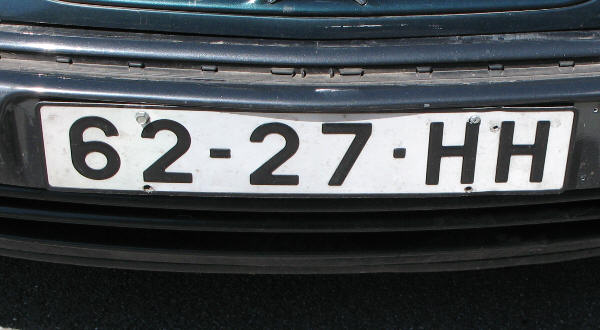license_plate: (35, 99, 581, 194)
